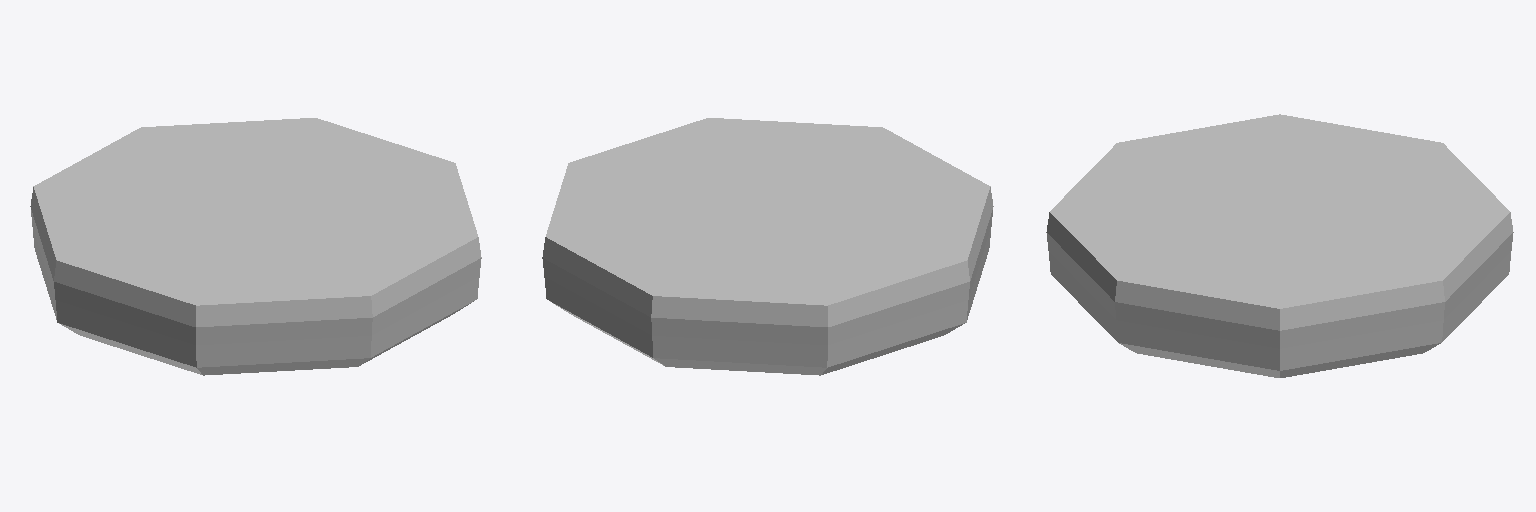
File: Bun_bot_v04.obj
3 renders of one model, left to right at view 1: azimuth 30°, elevation 25°; view 2: azimuth 150°, elevation 25°; view 3: azimuth 270°, elevation 25°, orthographic.
Parts seen in each view (by area): view 1: bun_top1; view 2: bun_top1; view 3: bun_top1.
Boxes of the visible parts, <box> form: bun_top1: <box>30,118,481,375</box>; bun_top1: <box>542,118,993,375</box>; bun_top1: <box>1046,114,1513,377</box>.
Size of the model in its own units: 29.45 by 6.17 by 29.45.